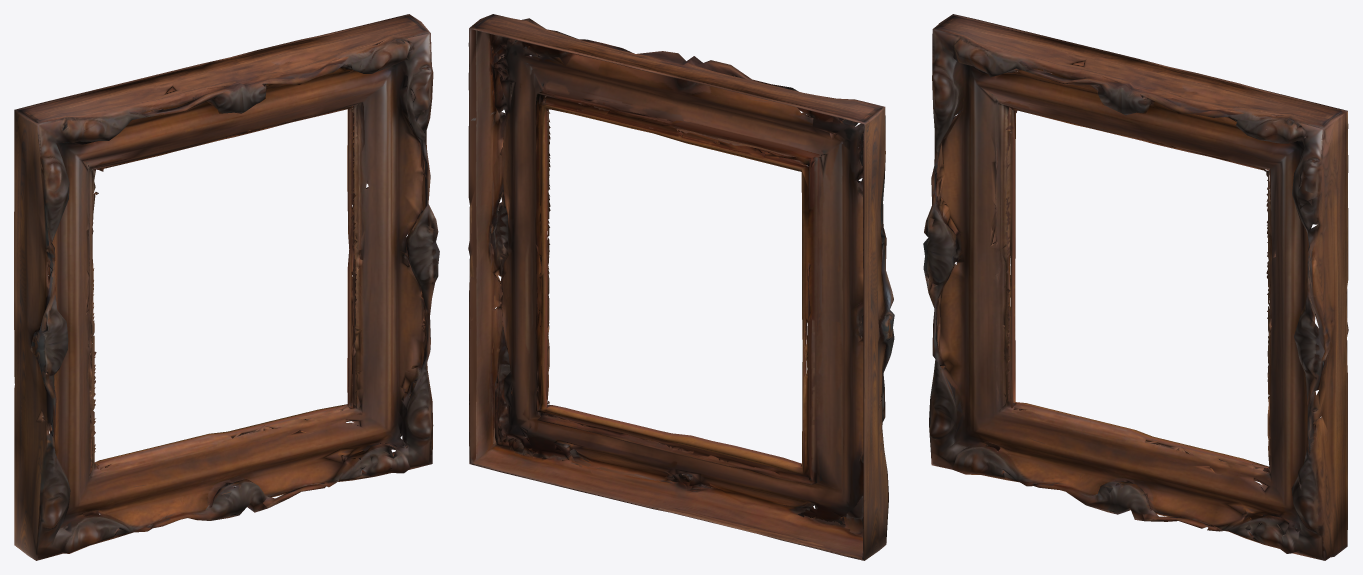
The model's file is 고전적인_스타일_0513124040_texture.fbx.
3 renders of one model, left to right at view 1: azimuth 30°, elevation 25°; view 2: azimuth 150°, elevation 25°; view 3: azimuth 330°, elevation 25°, orthographic.
Visible parts, largest first — view 1: Mesh1; view 2: Mesh1; view 3: Mesh1.
Part boxes in pixels (x1,y1,x2,y2): Mesh1: (14, 14, 439, 560); Mesh1: (468, 14, 894, 560); Mesh1: (923, 14, 1348, 560).
Size of the model in its own units: 191 by 199 by 26.22.
Materials: 1 (1 with a texture image).
